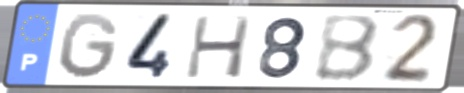2: (381, 12, 442, 86)
4: (122, 10, 178, 83)
8: (256, 14, 308, 82)
B: (312, 13, 383, 84)
G: (57, 11, 122, 82)
H: (182, 14, 255, 81)
